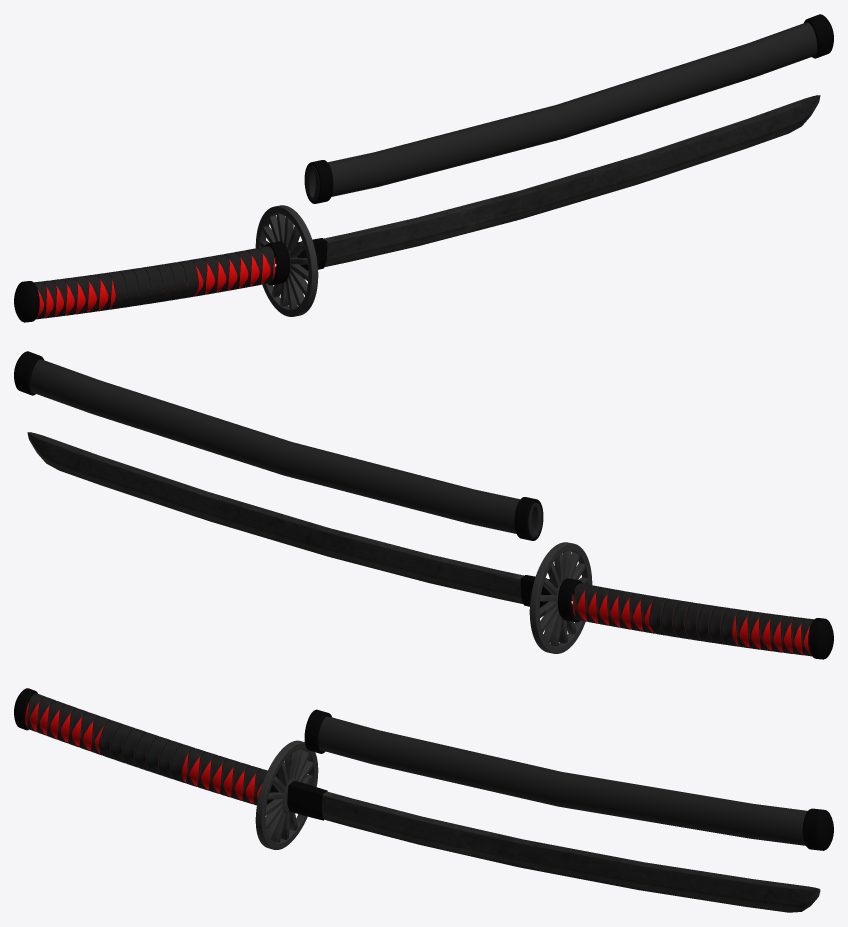
The model's file is katana.fbx.
3 renders of one model, top to bottom at view 1: azimuth 30°, elevation 25°; view 2: azimuth 150°, elevation 25°; view 3: azimuth 330°, elevation 25°, orthographic.
Parts seen in each view (by area): view 1: Group006, Cylinder007; view 2: Group006, Cylinder007; view 3: Group006, Cylinder007.
Boxes of the visible parts, <box> form: Group006: <box>14,95,820,322</box>; Cylinder007: <box>304,14,833,203</box>; Group006: <box>27,432,833,659</box>; Cylinder007: <box>14,351,543,540</box>; Group006: <box>14,688,820,912</box>; Cylinder007: <box>304,709,833,850</box>.
Bounding box in the file's own units: 1007 × 196 × 120.
Materials: 2 (2 with a texture image).
